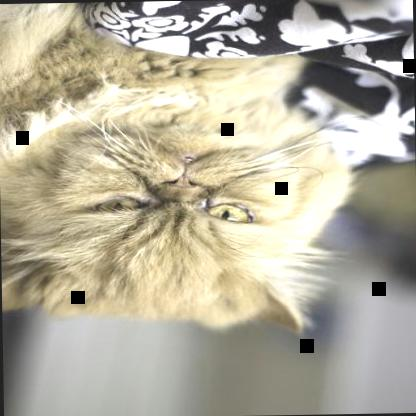cat: (0, 0, 351, 339)
